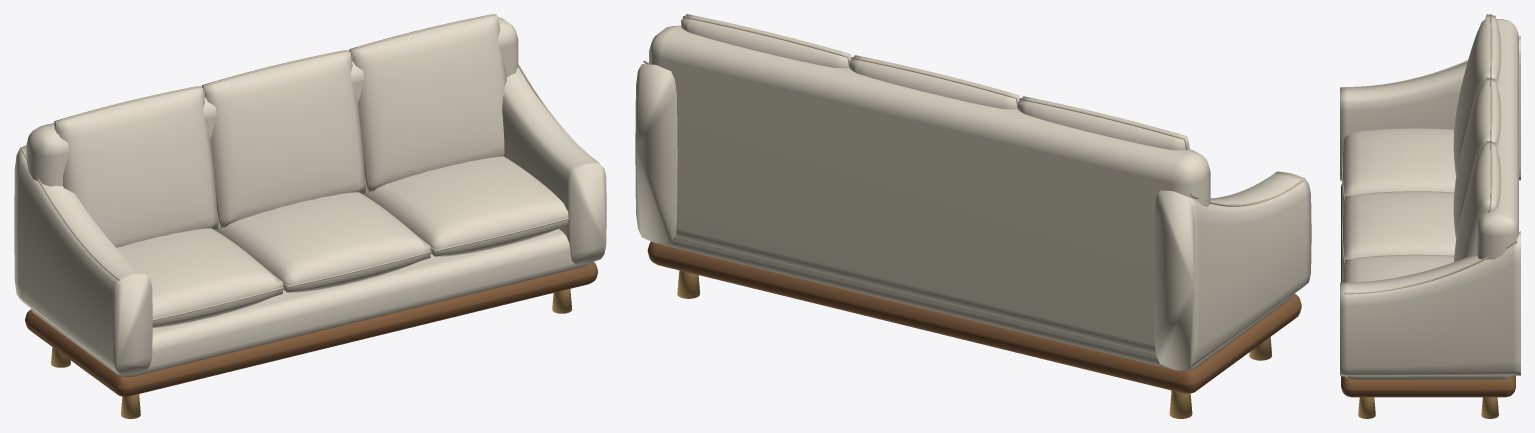
Rendered from SofaLOD0.fbx.
The picture shows the model from 3 angles, left to right: view 1: azimuth 30°, elevation 25°; view 2: azimuth 150°, elevation 25°; view 3: azimuth 270°, elevation 25°; orthographic projection. The views are drawn at different scales.
Visible parts, largest first — view 1: Sofa; view 2: Sofa; view 3: Sofa.
Boxes of the visible parts, <box> form: Sofa: <box>14,14,606,418</box>; Sofa: <box>635,14,1311,418</box>; Sofa: <box>1340,14,1520,418</box>.
Bounding box in the file's own units: 259 × 124 × 94.
